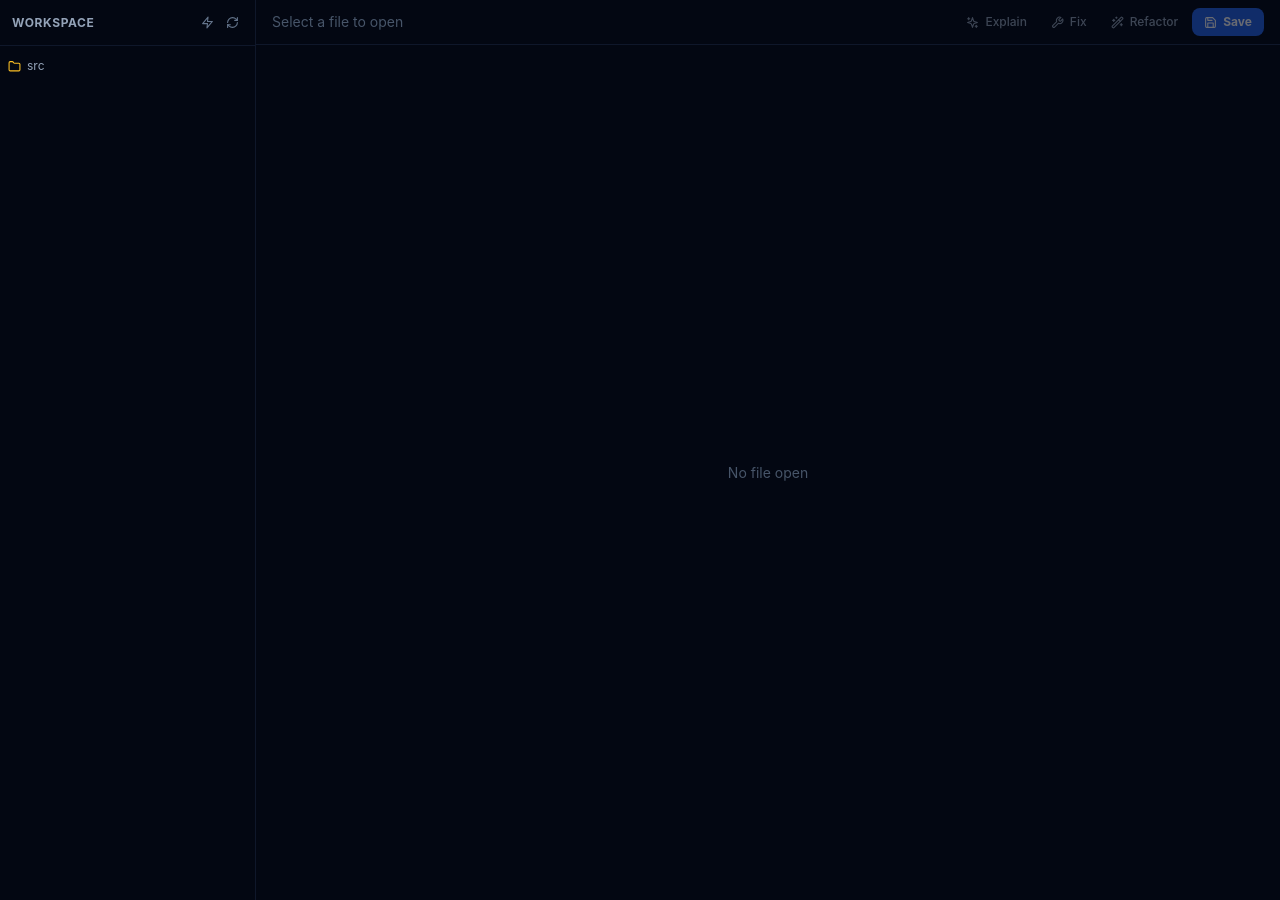
EditorTab › expands a directory node, updates aria-expanded, and lists its children in a group
Check: the text "src" is shown, box [27,58,44,74]
Click the button "src".
click(128, 66)  # box [8,54,247,78]
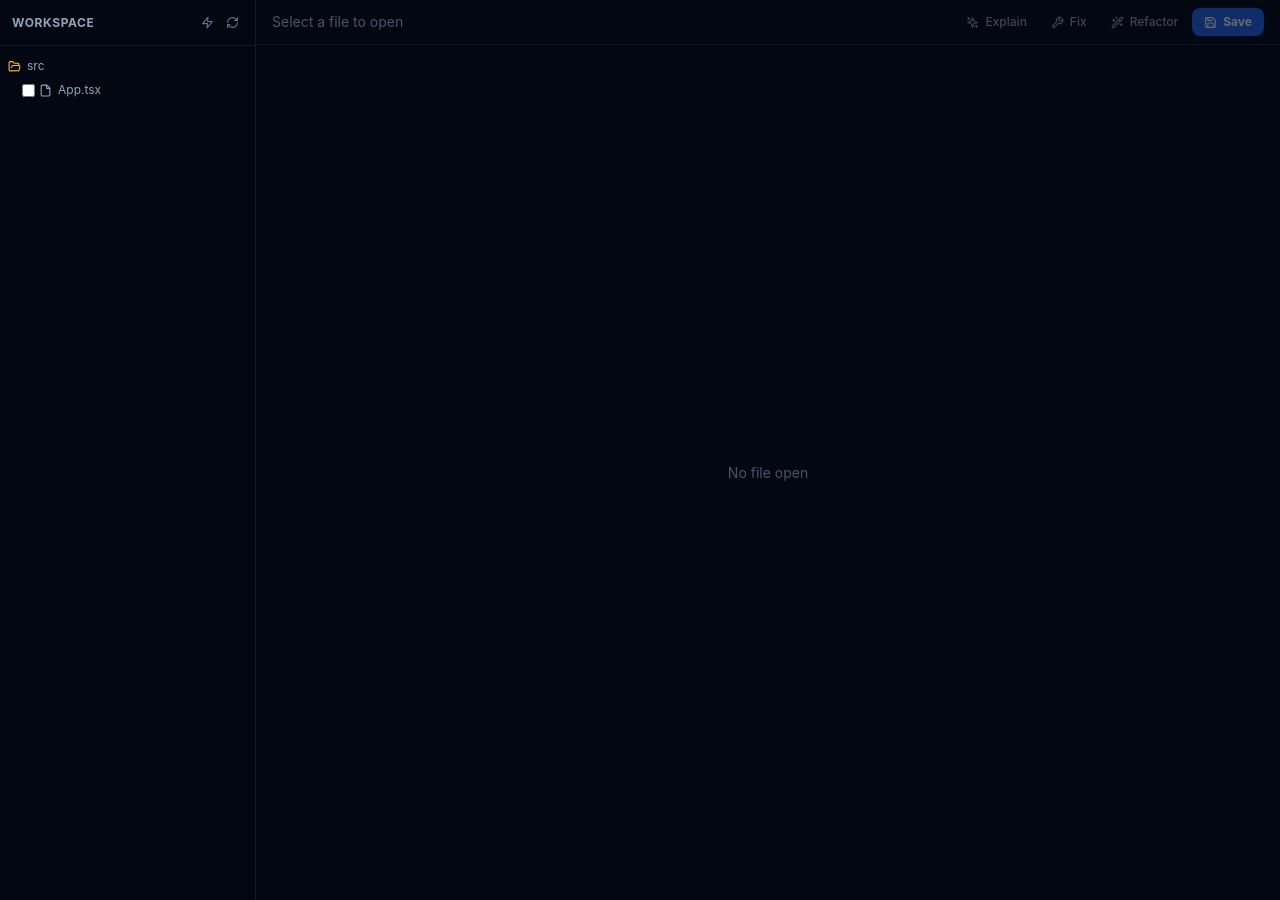
Check: the button "src" is expanded, box [8,54,247,78]
Check: the element named "src contents" is shown, box [0,78,255,102]
Check: the text "App.tsx" is shown, box [58,82,101,98]
